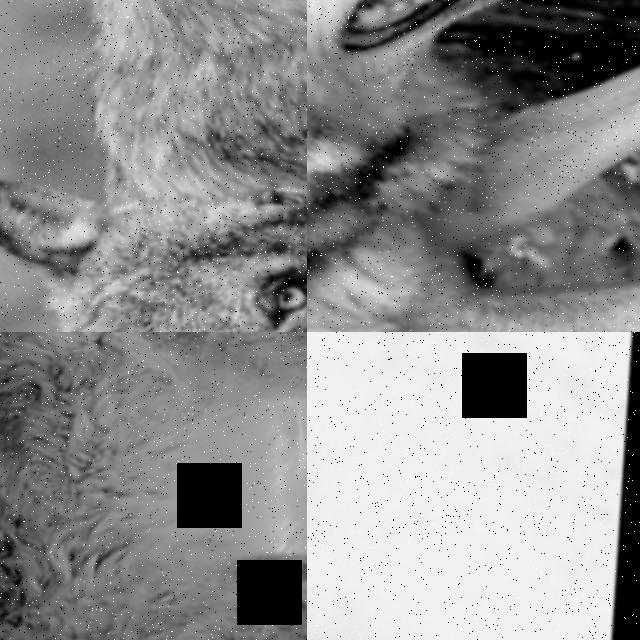wolf: (307, 0, 640, 332), (0, 0, 307, 332), (0, 332, 307, 640), (0, 121, 307, 332), (307, 332, 640, 470)
